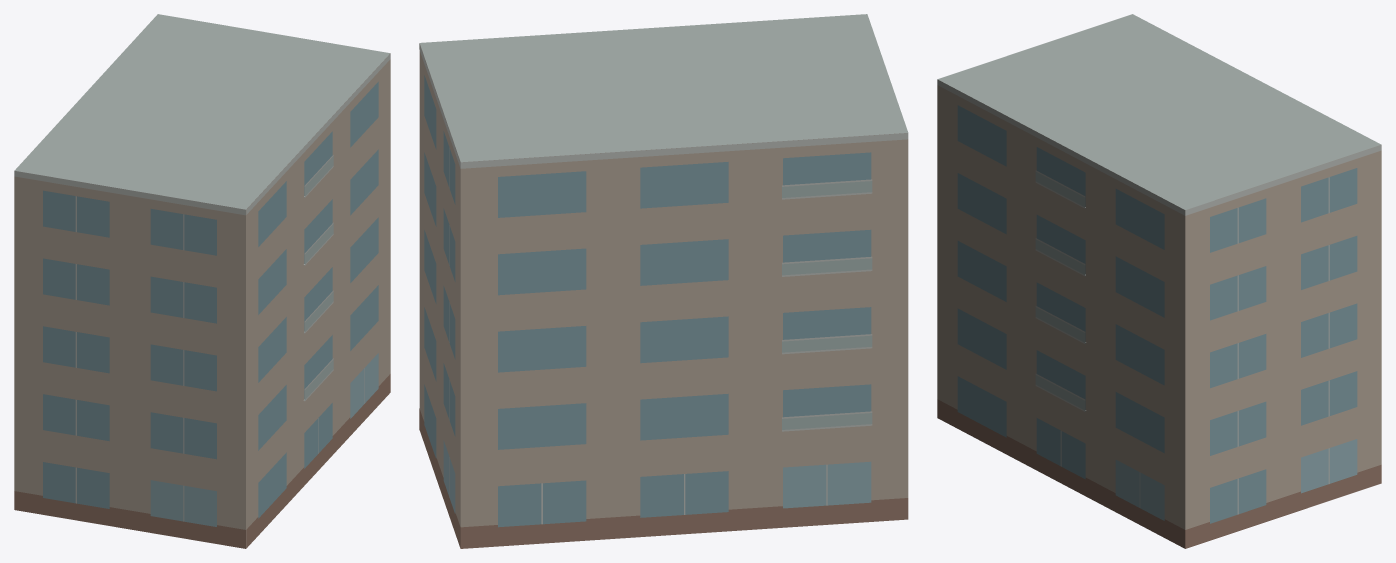
The model's file is survey-upis-32816439.glb.
3 renders of one model, left to right at view 1: azimuth 30°, elevation 25°; view 2: azimuth 150°, elevation 25°; view 3: azimuth 270°, elevation 25°, orthographic. The views are drawn at different scales.
Parts seen in each view (by area): view 1: survey-upis-32816439.tmp; view 2: survey-upis-32816439.tmp; view 3: survey-upis-32816439.tmp.
Part boxes in pixels (x1,y1,x2,y2): survey-upis-32816439.tmp: (14, 14, 390, 548); survey-upis-32816439.tmp: (419, 14, 908, 548); survey-upis-32816439.tmp: (937, 14, 1381, 548).
Bounding box in the file's own units: 17.89 × 14.4 × 17.13.
